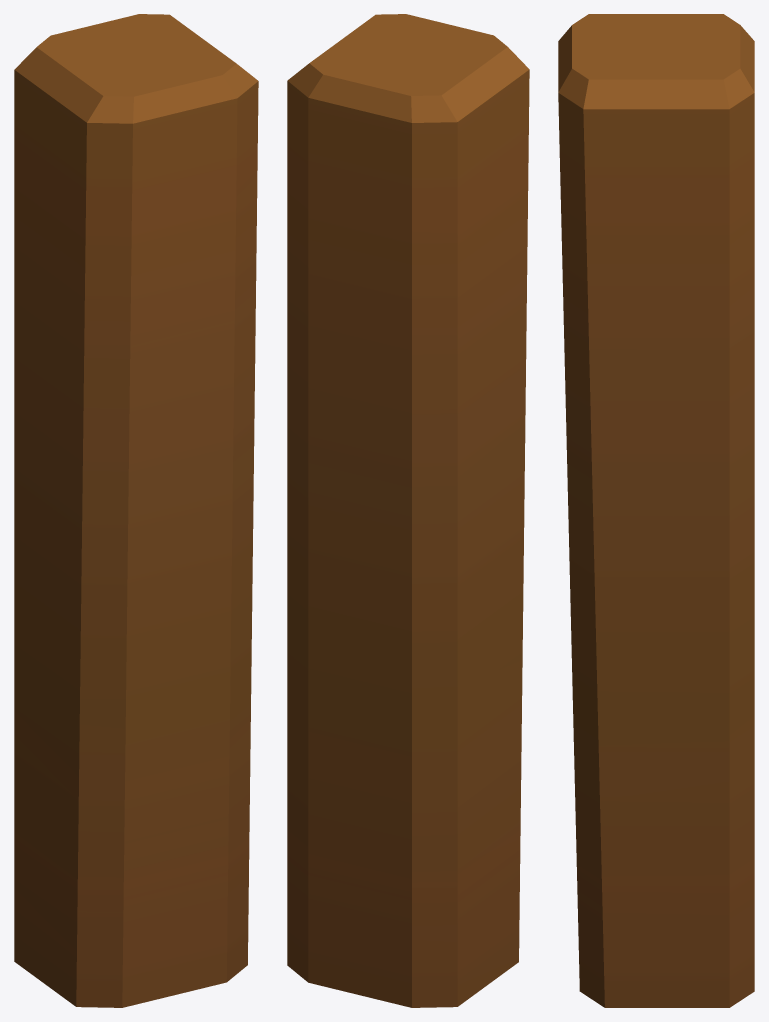
The model's file is Fence_1_B_2.fbx.
3 renders of one model, left to right at view 1: azimuth 30°, elevation 25°; view 2: azimuth 150°, elevation 25°; view 3: azimuth 270°, elevation 25°, orthographic.
Visible parts, largest first — view 1: Fence_1_B_2; view 2: Fence_1_B_2; view 3: Fence_1_B_2.
Part boxes in pixels (box(x1,y1,x2,y2)): Fence_1_B_2: box(14, 14, 258, 1007); Fence_1_B_2: box(287, 14, 529, 1007); Fence_1_B_2: box(558, 14, 754, 1007).
Size of the model in its own units: 11.29 by 57.36 by 11.11.
